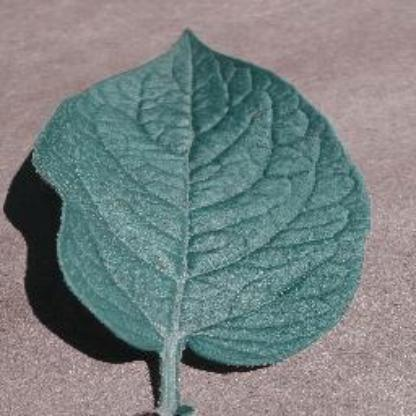Healthy-plant: (27, 25, 379, 416)
